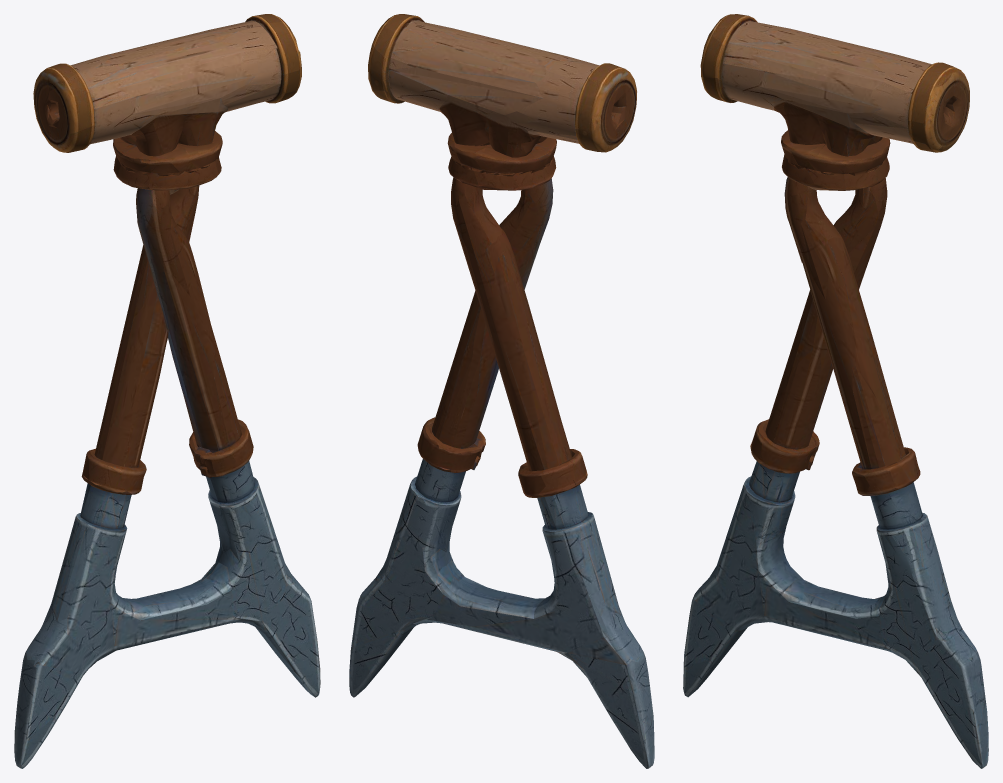
The model's file is gancho-low.glb.
3 views of the same model, side by side, from view 1: azimuth 30°, elevation 25°; view 2: azimuth 150°, elevation 25°; view 3: azimuth 330°, elevation 25° (orthographic).
Bounding box in the file's own units: 0.8628 × 1.9 × 0.2652.
1 material, 1 textured.
